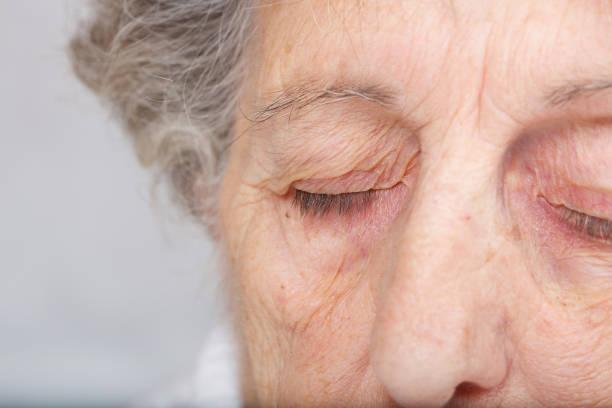Dry-Skin: (263, 222, 403, 323), (498, 274, 612, 370), (259, 316, 368, 399), (376, 247, 437, 379), (430, 0, 529, 78), (318, 339, 402, 408), (426, 87, 486, 180), (287, 18, 360, 80), (529, 26, 590, 86)
